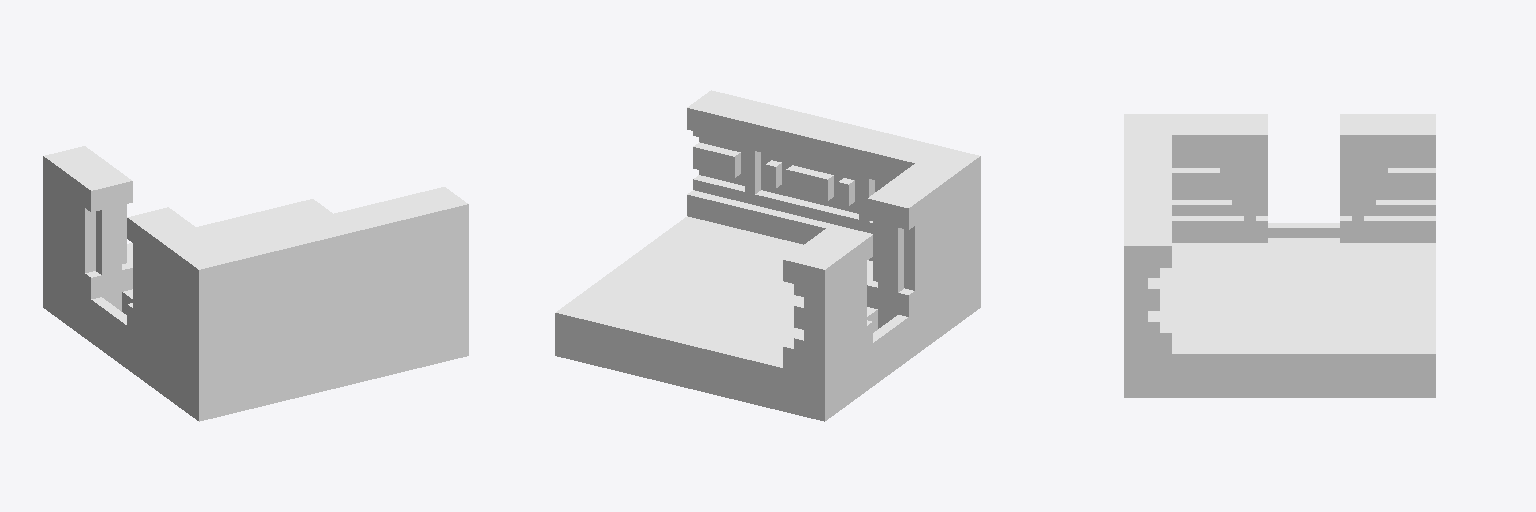
Rendered from Room_Default_L.obj.
3 views of the same model, side by side, from view 1: azimuth 30°, elevation 25°; view 2: azimuth 150°, elevation 25°; view 3: azimuth 270°, elevation 25° (orthographic).
Visible parts, largest first — view 1: Room_Default_L; view 2: Room_Default_L; view 3: Room_Default_L.
Boxes of the visible parts, x1=… form: Room_Default_L: x1=43, y1=146, x2=468, y2=421; Room_Default_L: x1=555, y1=90, x2=980, y2=421; Room_Default_L: x1=1124, y1=114, x2=1435, y2=397.
Size of the model in its own units: 26 by 14 by 26.